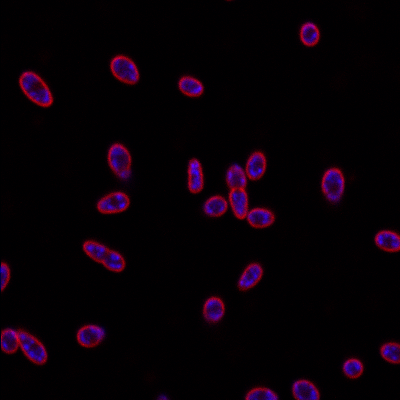Mecillinam: (80, 239, 126, 273), (17, 69, 54, 106), (12, 326, 48, 364), (109, 55, 139, 85), (95, 190, 132, 214), (236, 262, 264, 292), (185, 155, 205, 195), (202, 194, 229, 219), (177, 74, 204, 98), (247, 149, 267, 180), (298, 21, 320, 49), (247, 207, 275, 228)
Oblique: (225, 164, 249, 220), (105, 140, 134, 183), (320, 165, 347, 205), (75, 322, 106, 349), (202, 295, 226, 325)
